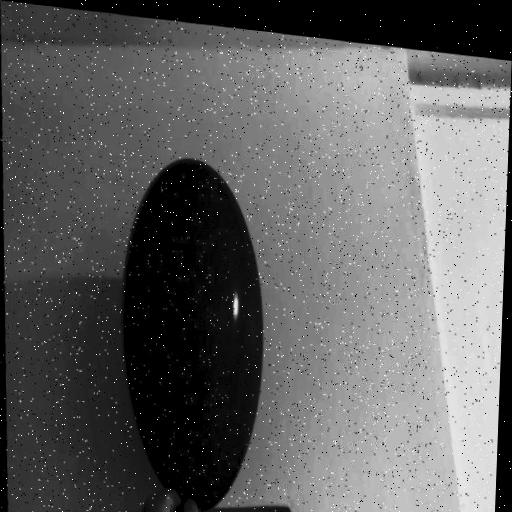balloon: (93, 138, 278, 512)
